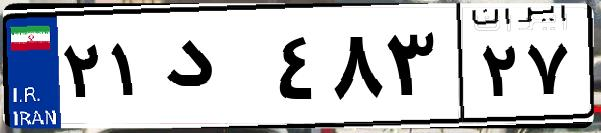1: (110, 28, 158, 98)
2: (57, 26, 110, 100), (475, 38, 525, 113)
3: (385, 28, 445, 110)
4: (270, 28, 330, 110)
7: (525, 38, 570, 115)
8: (330, 28, 385, 110)
د: (158, 20, 270, 120)
